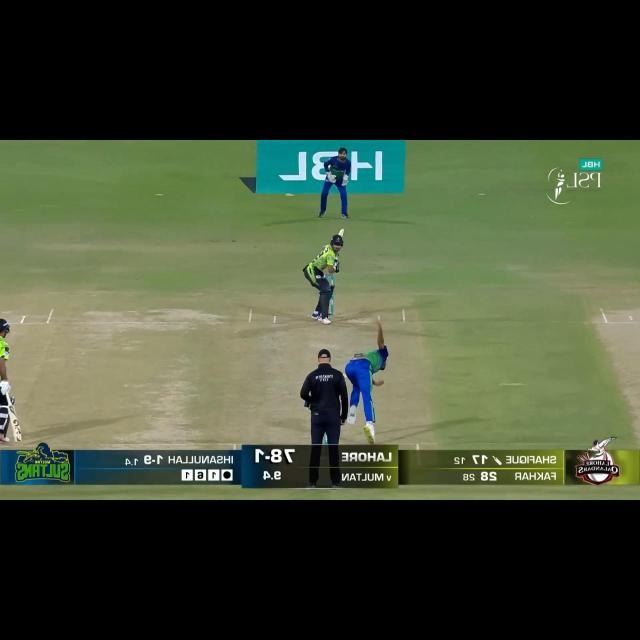bat: (7, 406, 24, 443), (338, 228, 344, 237)
toe: (336, 227, 350, 237), (13, 430, 23, 442)
